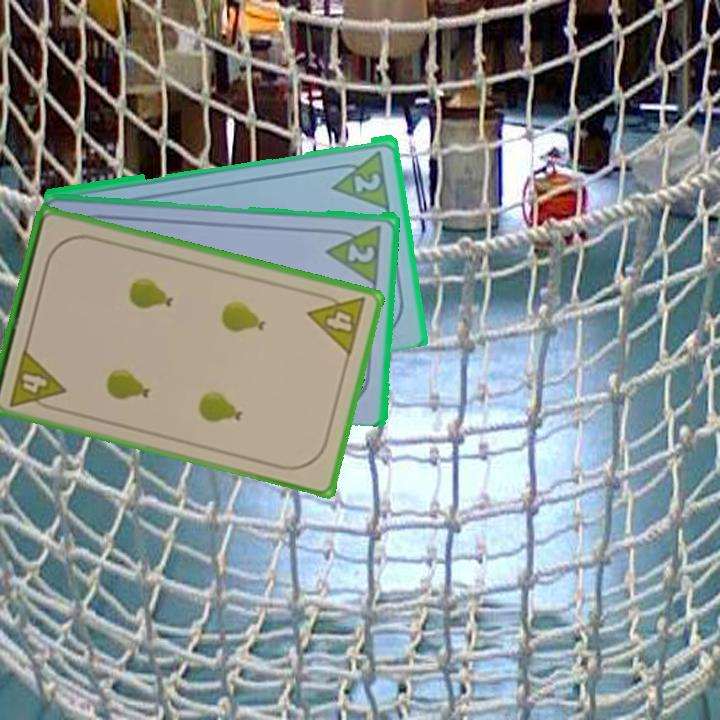2p: (324, 221, 385, 285), (351, 168, 384, 195)
4p: (304, 287, 369, 359), (6, 345, 68, 414)
